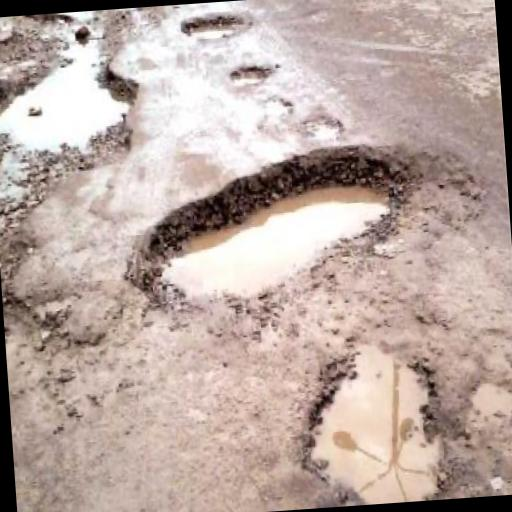pothole: (124, 131, 492, 333), (0, 7, 157, 290), (290, 329, 452, 508), (4, 289, 84, 345), (180, 6, 255, 46), (466, 374, 512, 419), (298, 112, 346, 144), (258, 92, 296, 128), (228, 62, 276, 88)
